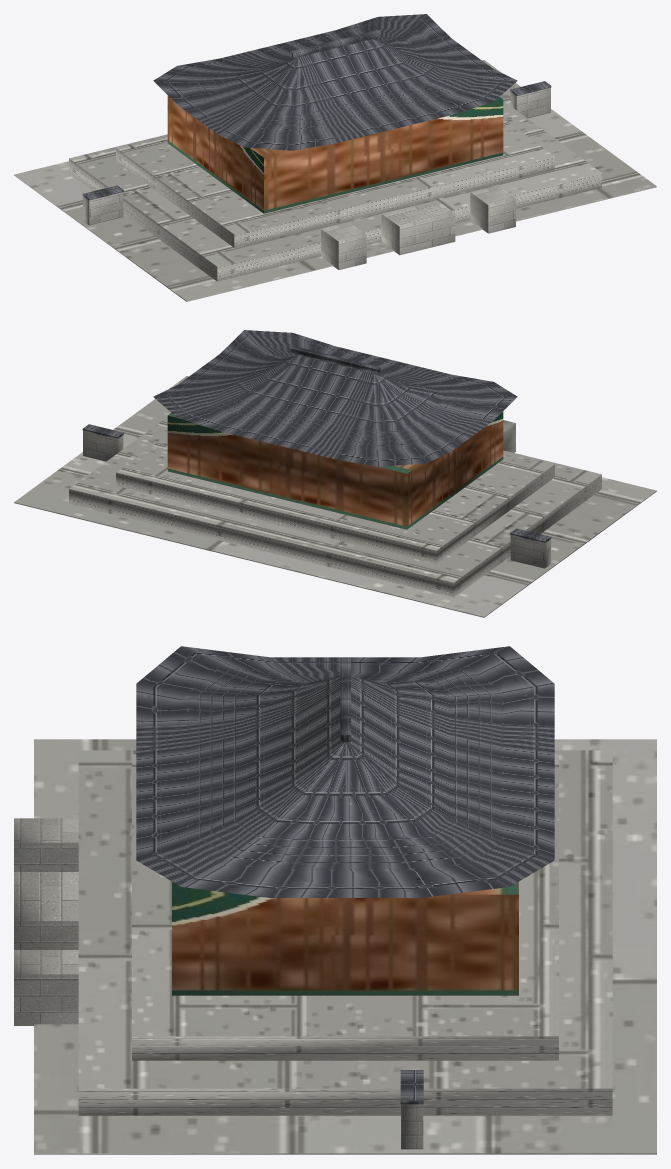
3 views of the same model, one above another, from view 1: azimuth 30°, elevation 25°; view 2: azimuth 150°, elevation 25°; view 3: azimuth 270°, elevation 25° (orthographic). The views are drawn at different scales.
Parts seen in each view (by area): view 1: 11140_02_04519_002_01_L2__wolldae_platform, 11140_02_04519_002_03_L2__paljak_roof, 11140_02_04519_002_02_L2__jeongjeon_body, 11140_02_04519_002_06_L2__hoerang; view 2: 11140_02_04519_002_01_L2__wolldae_platform, 11140_02_04519_002_03_L2__paljak_roof, 11140_02_04519_002_02_L2__jeongjeon_body, 11140_02_04519_002_06_L2__hoerang; view 3: 11140_02_04519_002_01_L2__wolldae_platform, 11140_02_04519_002_03_L2__paljak_roof, 11140_02_04519_002_02_L2__jeongjeon_body, 11140_02_04519_002_06_L2__hoerang.
Part boxes in pixels (x1,y1,x2,y2): 11140_02_04519_002_01_L2__wolldae_platform: (14, 60, 656, 301); 11140_02_04519_002_03_L2__paljak_roof: (82, 14, 551, 200); 11140_02_04519_002_02_L2__jeongjeon_body: (167, 95, 503, 213); 11140_02_04519_002_06_L2__hoerang: (83, 88, 550, 225); 11140_02_04519_002_01_L2__wolldae_platform: (14, 376, 656, 617); 11140_02_04519_002_03_L2__paljak_roof: (82, 330, 551, 543); 11140_02_04519_002_02_L2__jeongjeon_body: (167, 411, 503, 529); 11140_02_04519_002_06_L2__hoerang: (83, 431, 550, 568); 11140_02_04519_002_01_L2__wolldae_platform: (14, 739, 656, 1154); 11140_02_04519_002_03_L2__paljak_roof: (136, 646, 554, 1104); 11140_02_04519_002_02_L2__jeongjeon_body: (172, 882, 518, 995); 11140_02_04519_002_06_L2__hoerang: (401, 1104, 423, 1149).
Size of the model in its own units: 44 by 12.48 by 28.9.
5 materials, 5 textured.
